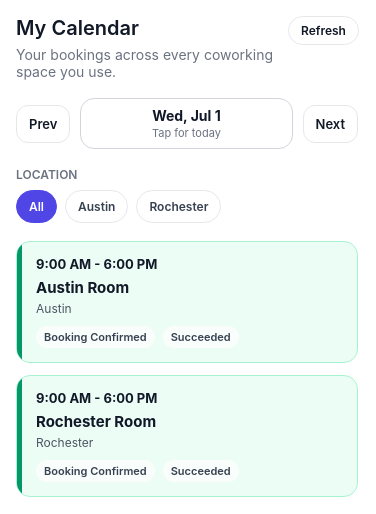
Test: MemberCalendarScreen › renders member-owned calendar events and filters by location
The image size is (376, 514).
Expected: the text "Austin Room" is shown, [36,278,129,297]
Expected: the text "Rochester Room" is shown, [36,412,156,431]
Step 1. Click the element with test id "mobile-calendar-location-loc_b" → click(179, 206), box [136,190,221,223]
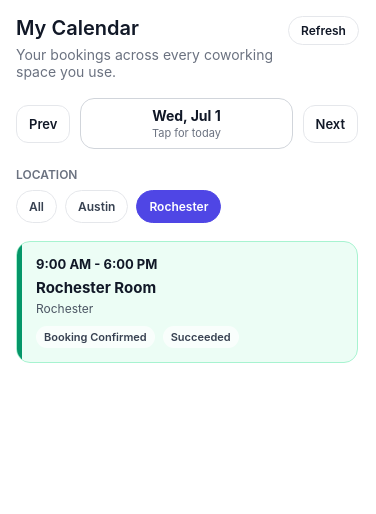
Expected: the text "Rochester Room" is shown, [36,278,156,297]
Expected: the text "Austin Room" is gone
